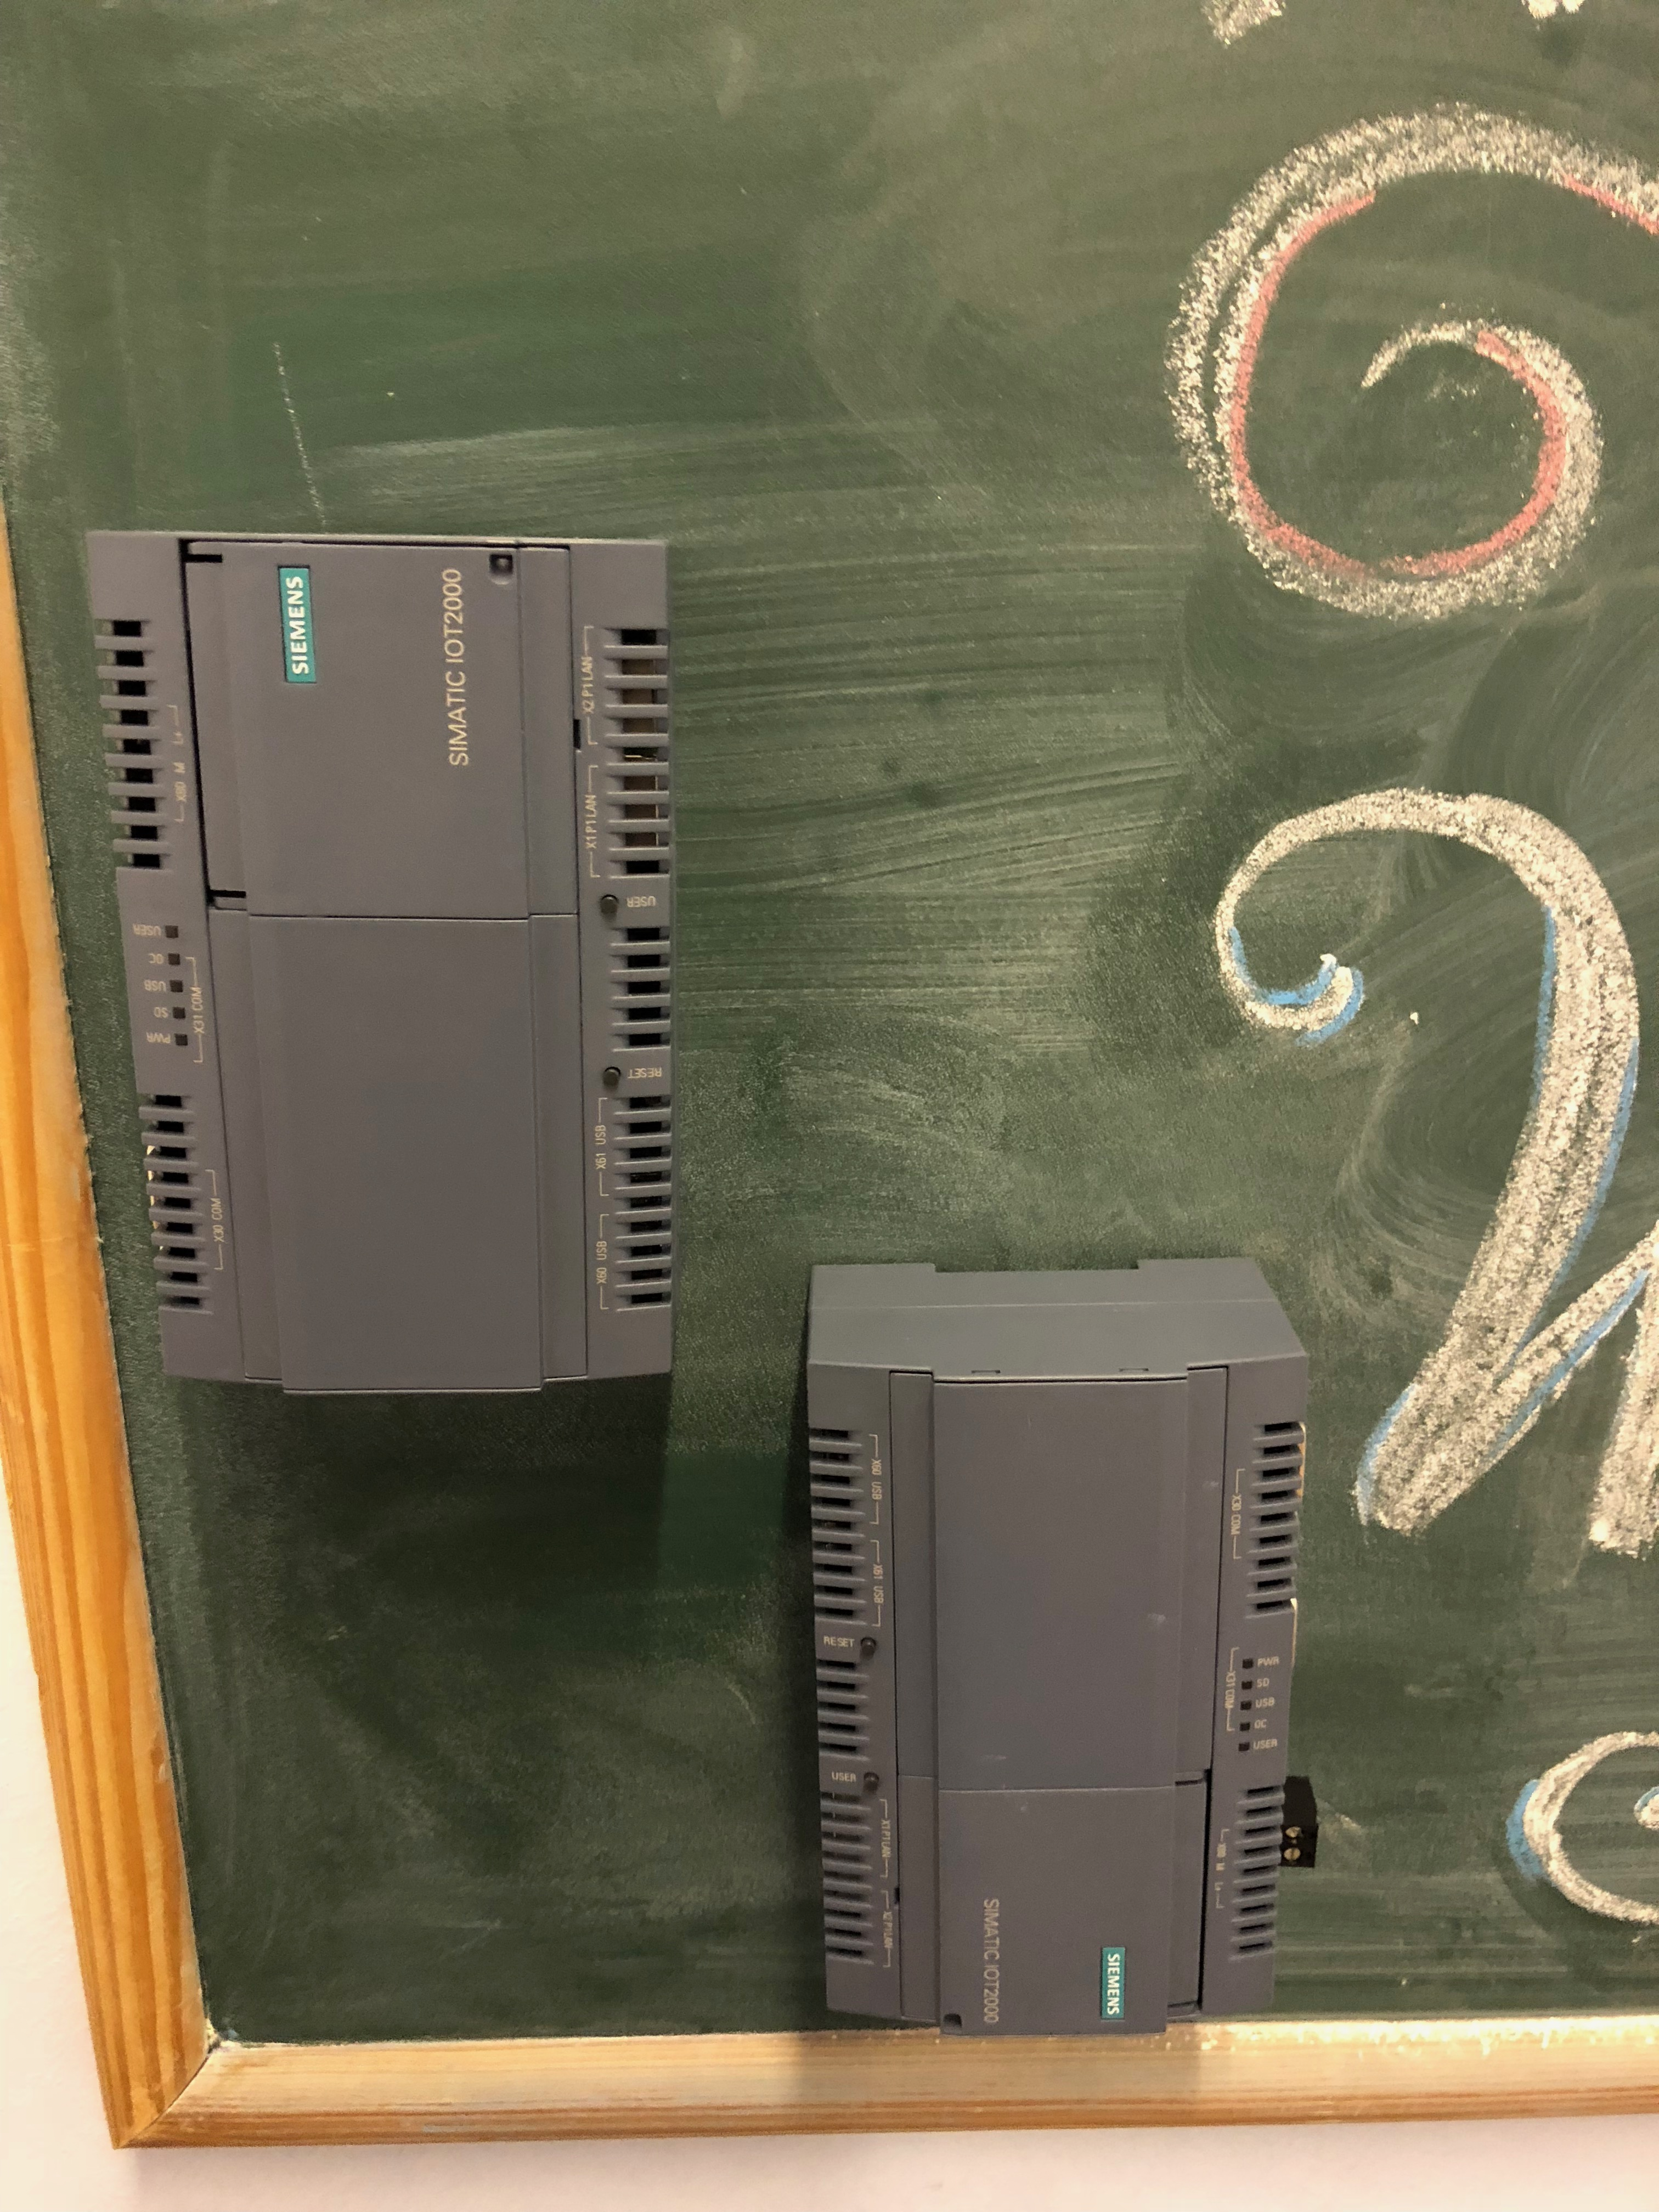device: (87, 533, 673, 1395), (805, 1258, 1319, 2036)
